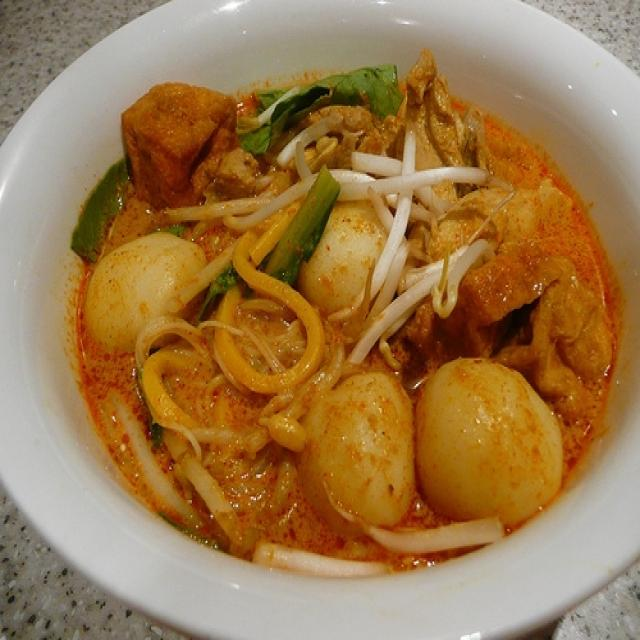面条主食: (64, 42, 608, 578)
